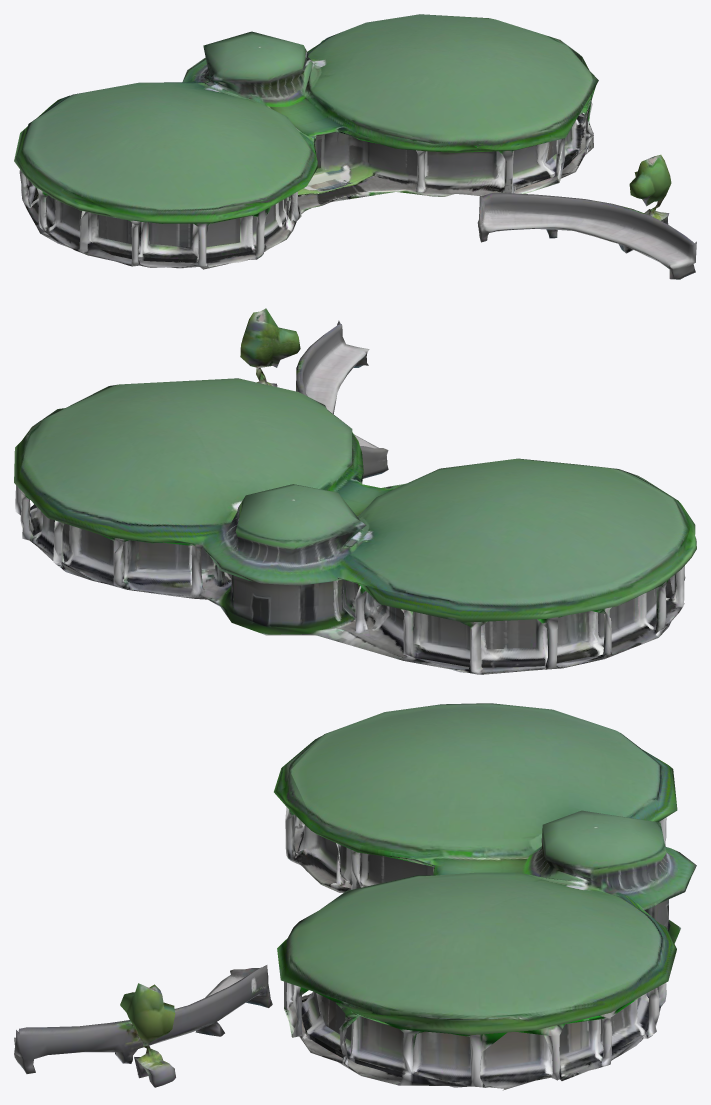
Rendered from Green_Dome_Structure.glb.
The picture shows the model from 3 angles, top to bottom: view 1: azimuth 30°, elevation 25°; view 2: azimuth 150°, elevation 25°; view 3: azimuth 270°, elevation 25°; orthographic projection. The views are drawn at different scales.
Parts seen in each view (by area): view 1: Mesh0; view 2: Mesh0; view 3: Mesh0.
Part boxes in pixels (left/top/right/bottom): Mesh0: left=14, top=14, right=696, bottom=279; Mesh0: left=14, top=308, right=696, bottom=674; Mesh0: left=14, top=703, right=696, bottom=1090.
Bounding box in the file's own units: 1.91 × 0.3509 × 1.71.
Materials: 1 (1 with a texture image).
